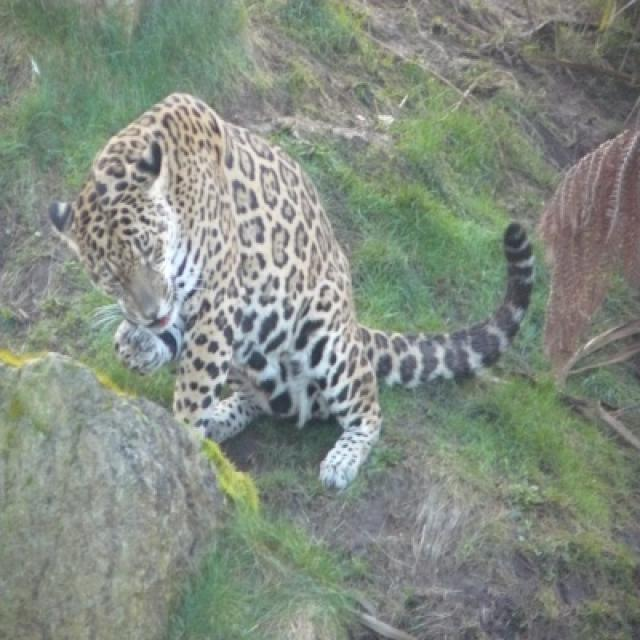Jaguar: (48, 93, 534, 494)
